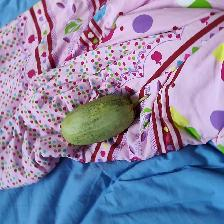gua: (59, 93, 143, 143)
